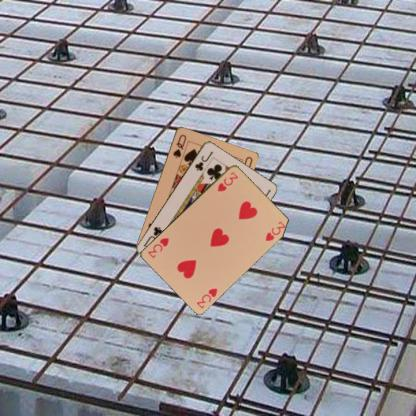3h: (194, 284, 220, 310), (215, 169, 239, 193)
Jc: (192, 148, 214, 172)
Qs: (171, 132, 188, 159)
